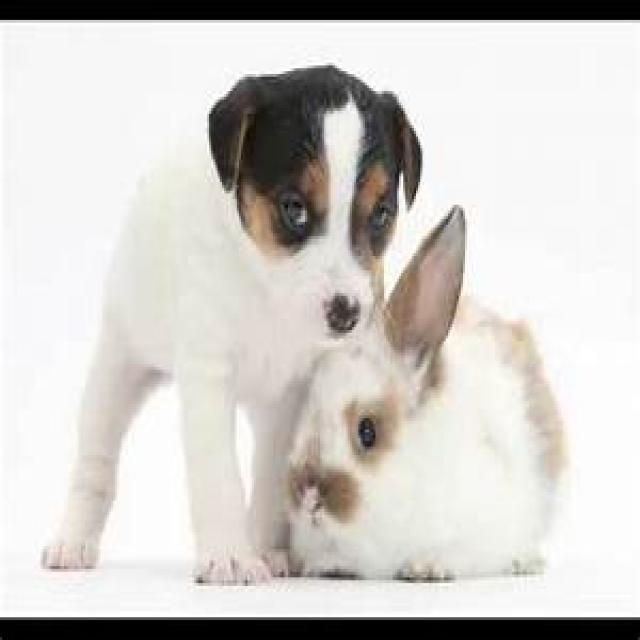dog: (43, 65, 420, 580)
